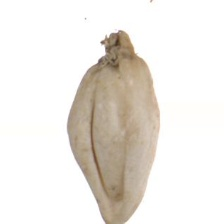L1: (88, 29, 134, 67), (97, 208, 136, 223)
L2: (67, 30, 161, 224)
